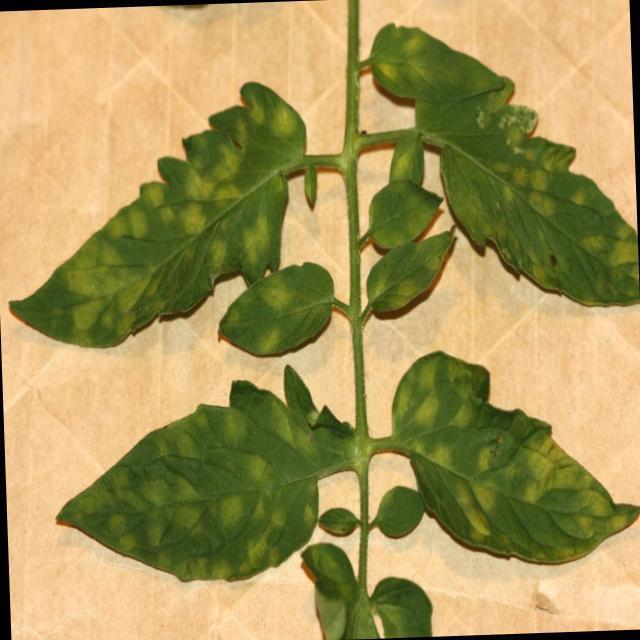Mosaic Virus: (28, 101, 318, 339), (391, 344, 640, 578), (73, 394, 329, 580), (476, 94, 640, 308), (224, 258, 342, 351), (372, 10, 481, 100), (366, 244, 452, 328), (352, 184, 442, 244)
